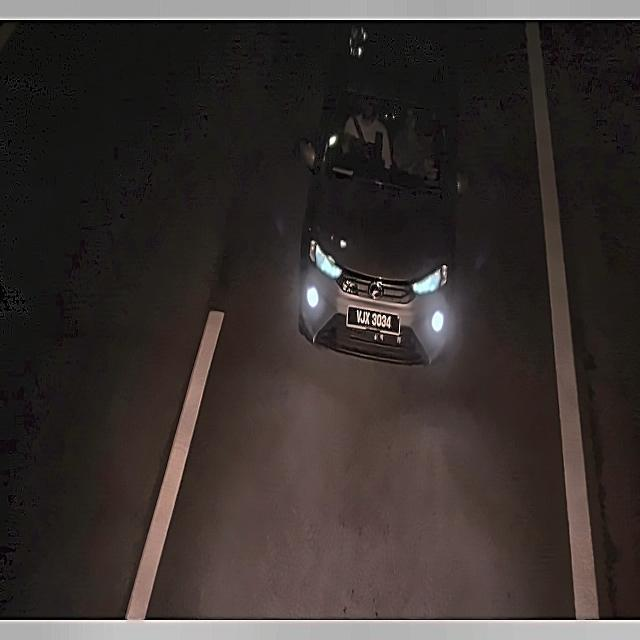car: (345, 306, 401, 337)
